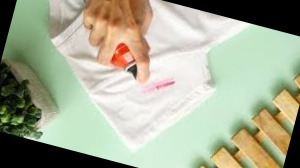lipstick: (146, 74, 183, 99)
